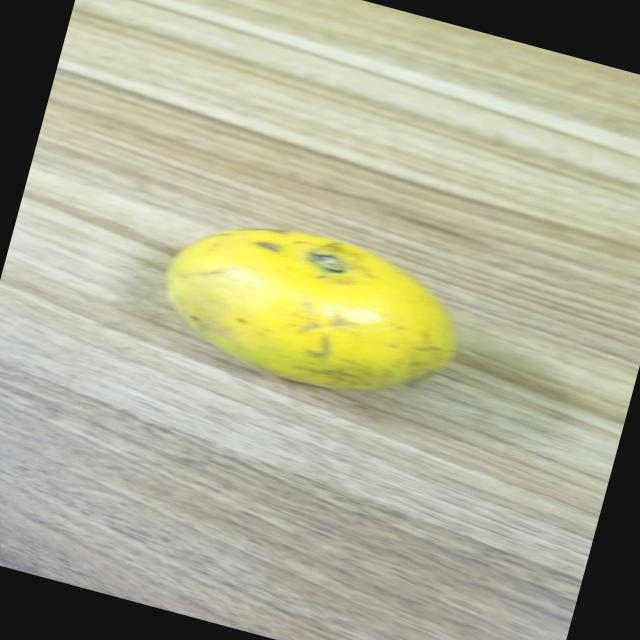Ripe orange: (136, 192, 491, 434)
